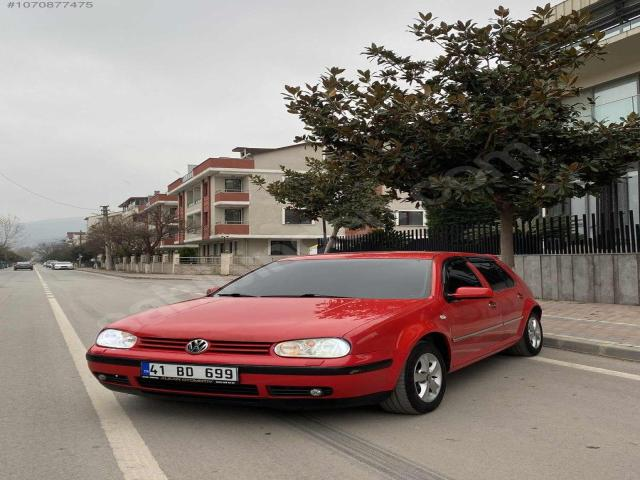plaka: (140, 362, 238, 383)
